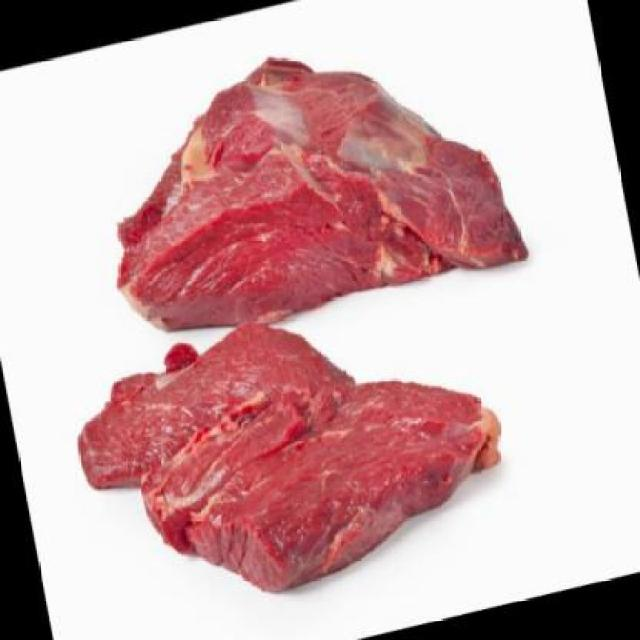beef: (59, 268, 521, 632), (80, 1, 535, 362)
